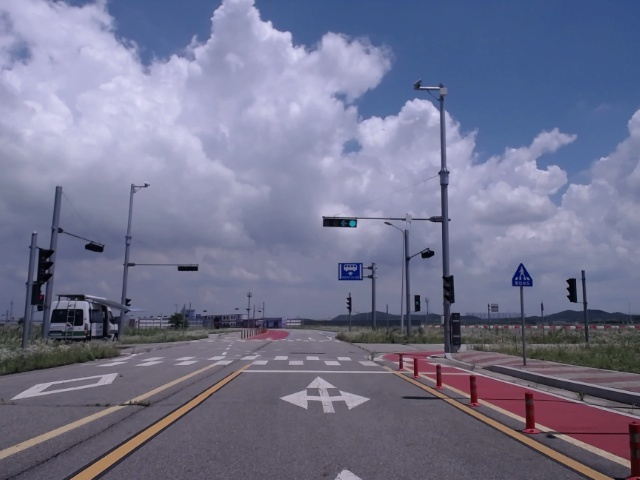all_green_4: (324, 216, 358, 229)
